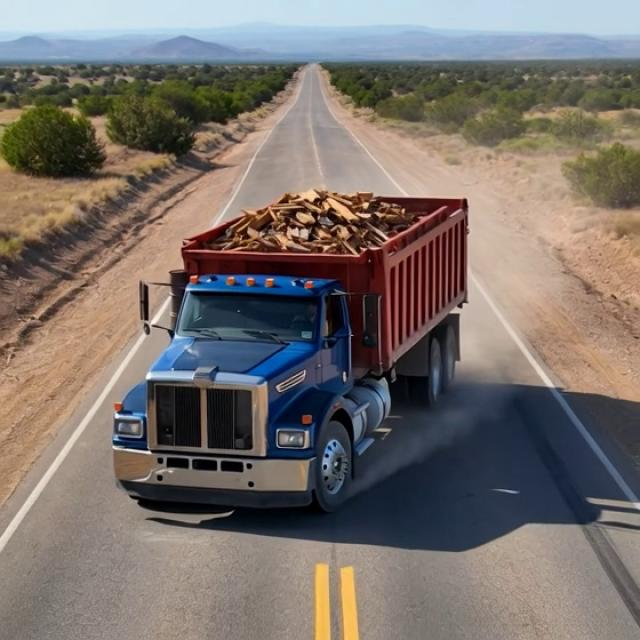Box: (171, 189, 485, 277)
Truck: (103, 165, 490, 506)
